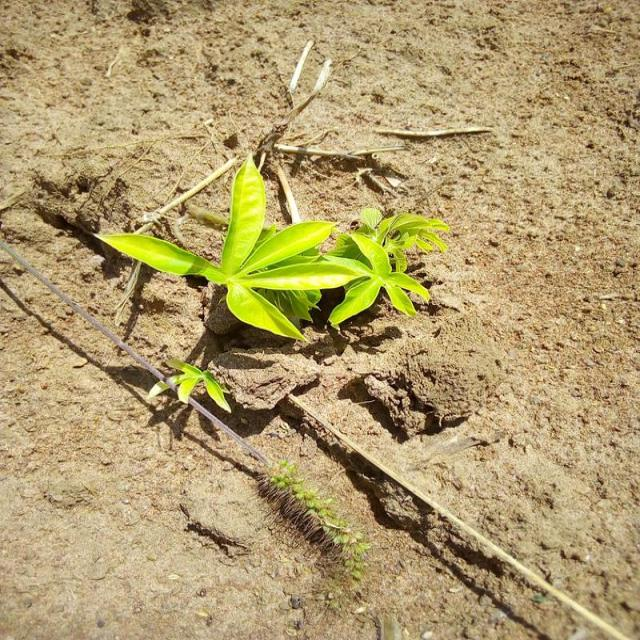cassava leaf: (91, 150, 445, 344), (219, 152, 266, 278)
